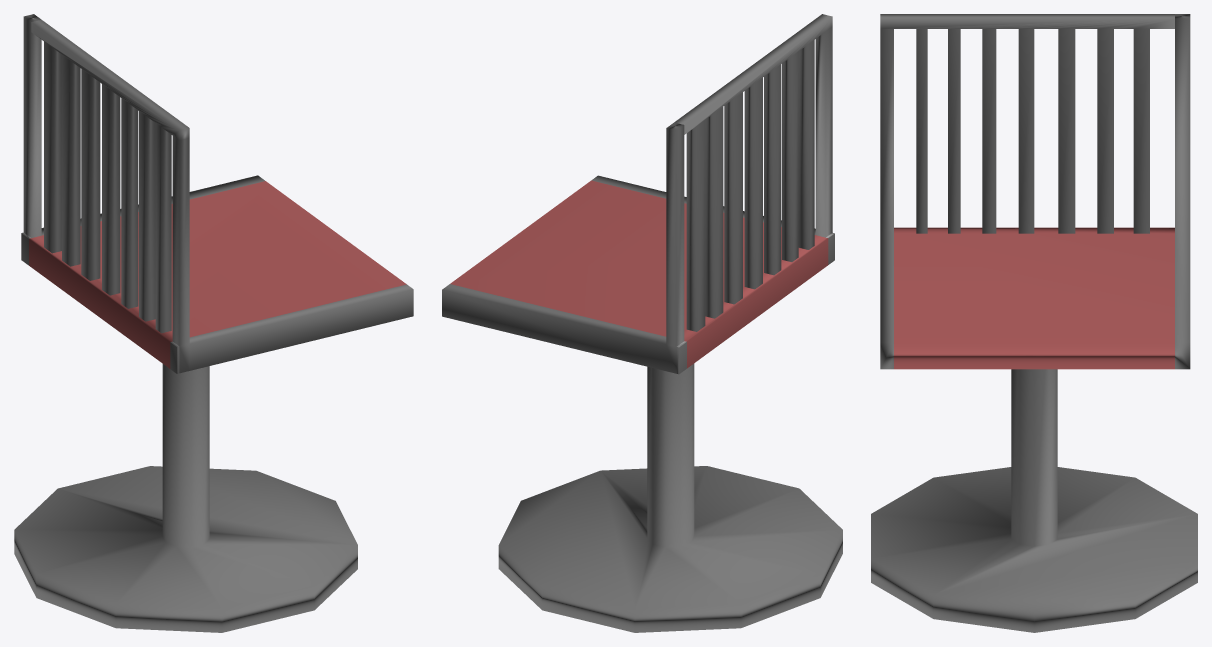
Rendered from CafeChair.fbx.
3 renders of one model, left to right at view 1: azimuth 30°, elevation 25°; view 2: azimuth 150°, elevation 25°; view 3: azimuth 270°, elevation 25°, orthographic.
Visible parts, largest first — view 1: polySurface1; view 2: polySurface1; view 3: polySurface1.
Boxes of the visible parts, x1=… form: polySurface1: x1=14, y1=14, x2=413, y2=632; polySurface1: x1=442, y1=14, x2=842, y2=632; polySurface1: x1=871, y1=14, x2=1197, y2=632.
Size of the model in its own units: 137 by 222 by 130.
